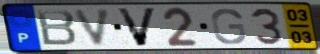2: (161, 5, 201, 48)
3: (248, 6, 285, 46)
B: (35, 8, 79, 47)
G: (209, 7, 248, 46)
V: (115, 6, 160, 48), (72, 7, 114, 48)
